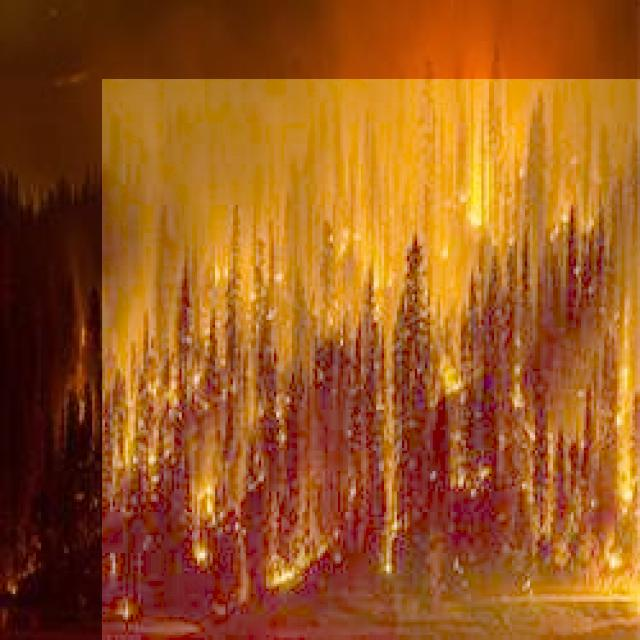Fire: (102, 79, 640, 640)
